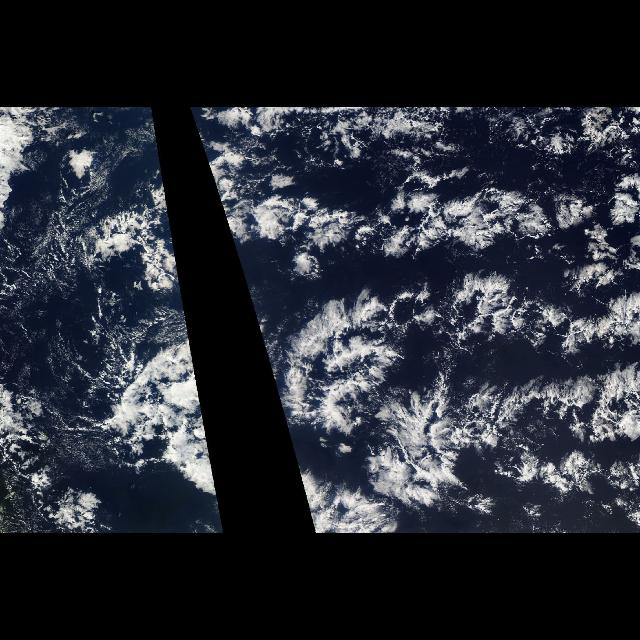Fish: (282, 276, 636, 506)
Flower: (298, 249, 638, 503)
Gravel: (352, 154, 636, 506)
Sugar: (2, 186, 122, 418)
